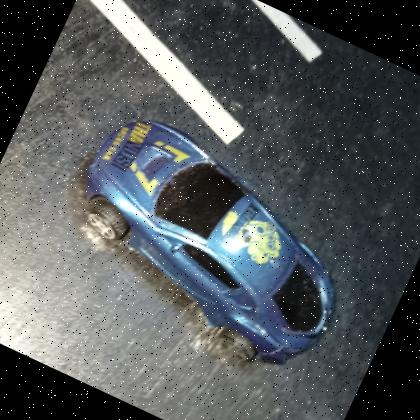Car: (39, 99, 382, 390)
